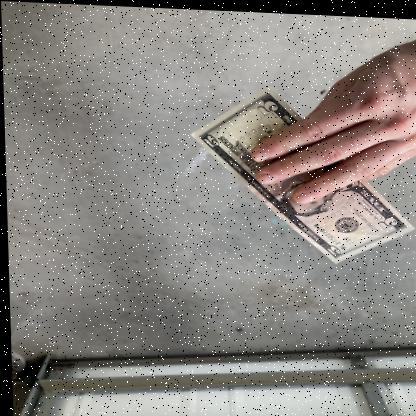five-front: (194, 84, 412, 268)
